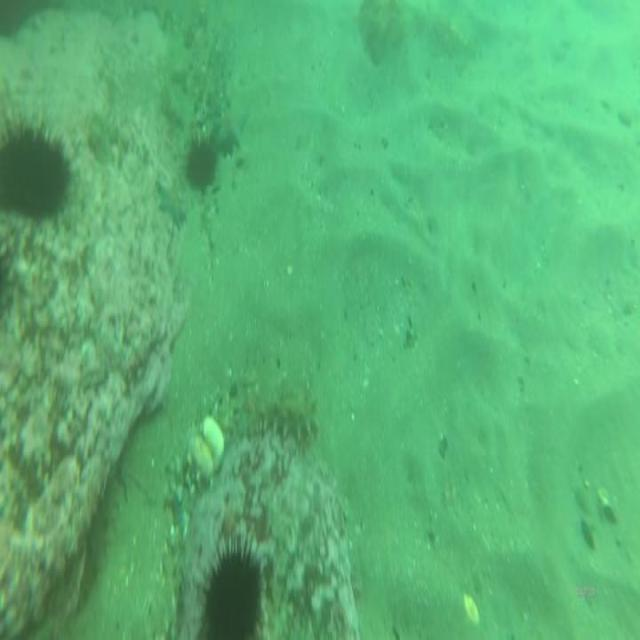echinus: (1, 120, 70, 226), (201, 545, 264, 640), (181, 133, 225, 191)
holothurian: (258, 386, 322, 447)
starfish: (154, 172, 190, 235), (214, 102, 250, 160)
